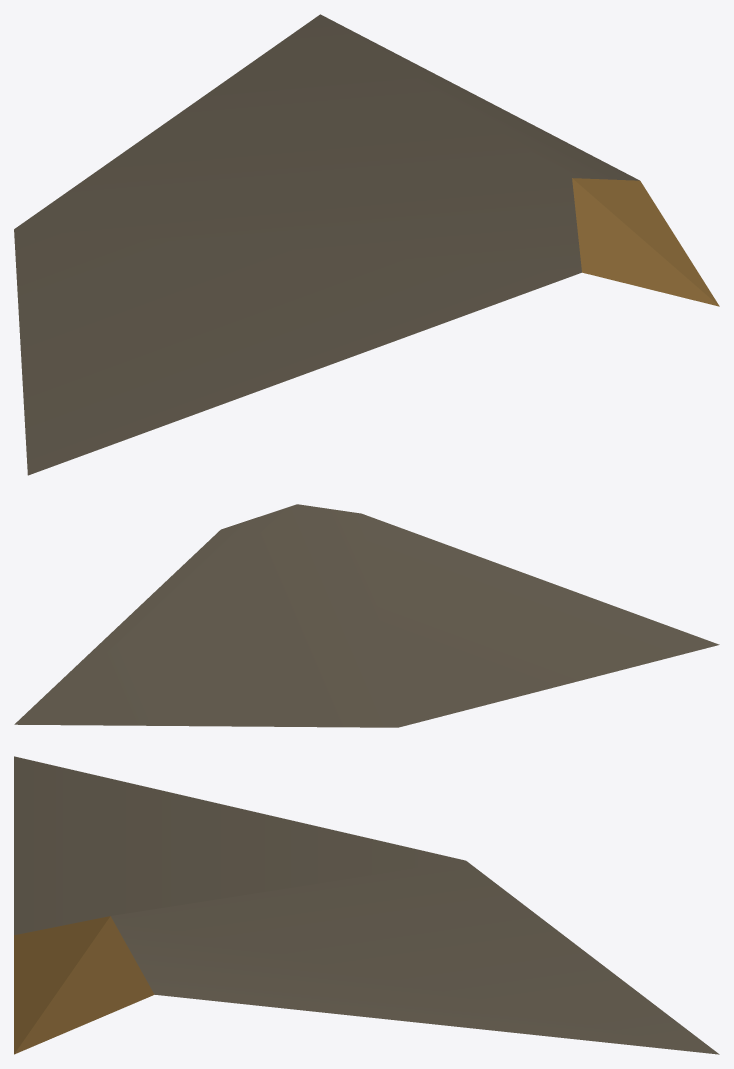
File: SF_Env_SwampEdge_Corner_05.fbx
3 views of the same model, one above another, from view 1: azimuth 30°, elevation 25°; view 2: azimuth 150°, elevation 25°; view 3: azimuth 270°, elevation 25° (orthographic). The views are drawn at different scales.
Parts seen in each view (by area): view 1: SF_Env_SwampEdge_Corner_05; view 2: SF_Env_SwampEdge_Corner_05; view 3: SF_Env_SwampEdge_Corner_05.
Boxes of the visible parts, left/top/right/bottom form: SF_Env_SwampEdge_Corner_05: left=14, top=14, right=719, bottom=475; SF_Env_SwampEdge_Corner_05: left=14, top=504, right=719, bottom=727; SF_Env_SwampEdge_Corner_05: left=14, top=756, right=719, bottom=1054.
Size of the model in its own units: 9.11 by 1.4 by 9.11.
